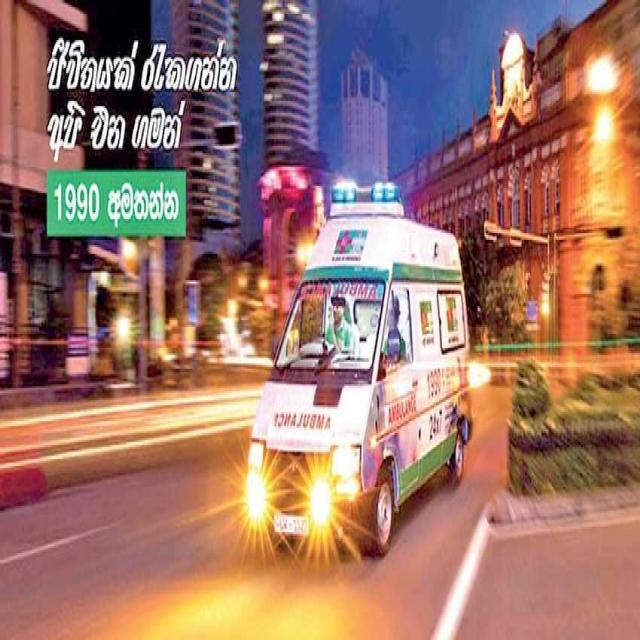emergency-vehicle: (238, 160, 476, 565)
